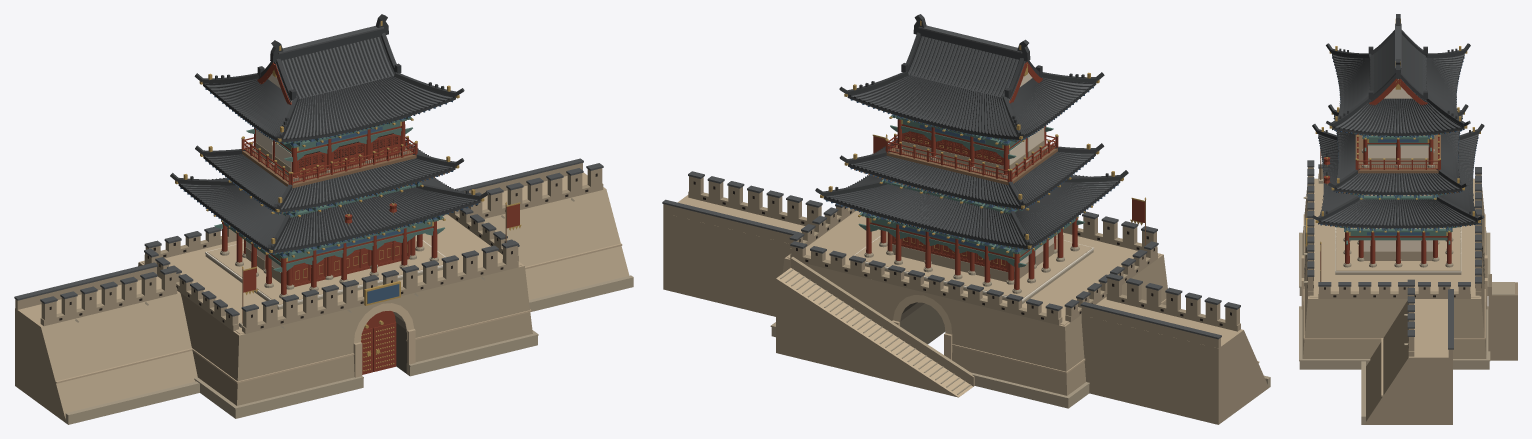
3 renders of one model, left to right at view 1: azimuth 30°, elevation 25°; view 2: azimuth 150°, elevation 25°; view 3: azimuth 270°, elevation 25°, orthographic. The views are drawn at different scales.
Parts seen in each view (by area): view 1: X02; view 2: X02; view 3: X02.
Boxes of the visible parts, box(x1,y1,x2,y2) form: X02: box(14, 14, 633, 424); X02: box(662, 14, 1270, 424); X02: box(1299, 14, 1517, 424).
Size of the model in its own units: 60.9 by 32.08 by 23.61.
